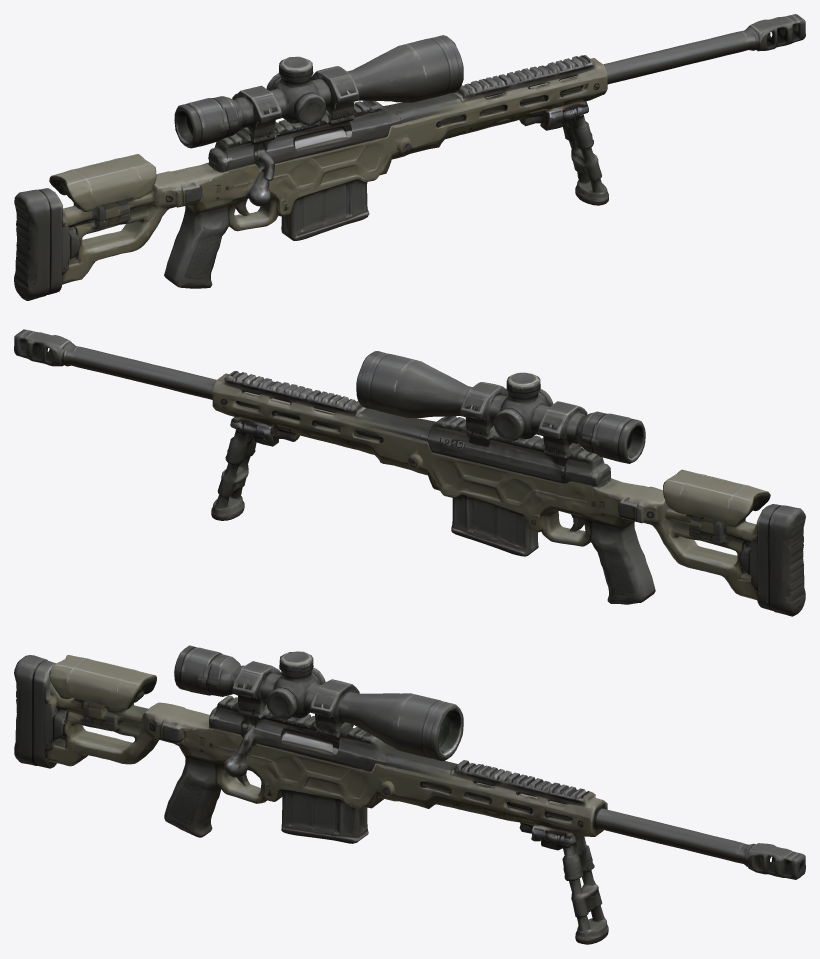
3 views of the same model, one above another, from view 1: azimuth 30°, elevation 25°; view 2: azimuth 150°, elevation 25°; view 3: azimuth 330°, elevation 25° (orthographic).
Visible parts, largest first — view 1: tripo_node_ac402a4d-efb4-4d08-b073-6da5e4ffb46c; view 2: tripo_node_ac402a4d-efb4-4d08-b073-6da5e4ffb46c; view 3: tripo_node_ac402a4d-efb4-4d08-b073-6da5e4ffb46c.
Part boxes in pixels (x1=…): tripo_node_ac402a4d-efb4-4d08-b073-6da5e4ffb46c: x1=14, y1=14, x2=805, y2=300; tripo_node_ac402a4d-efb4-4d08-b073-6da5e4ffb46c: x1=14, y1=329, x2=805, y2=616; tripo_node_ac402a4d-efb4-4d08-b073-6da5e4ffb46c: x1=14, y1=645, x2=805, y2=944.
Bounding box in the file's own units: 1 × 0.2538 × 0.0773.
Materials: 1 (1 with a texture image).
